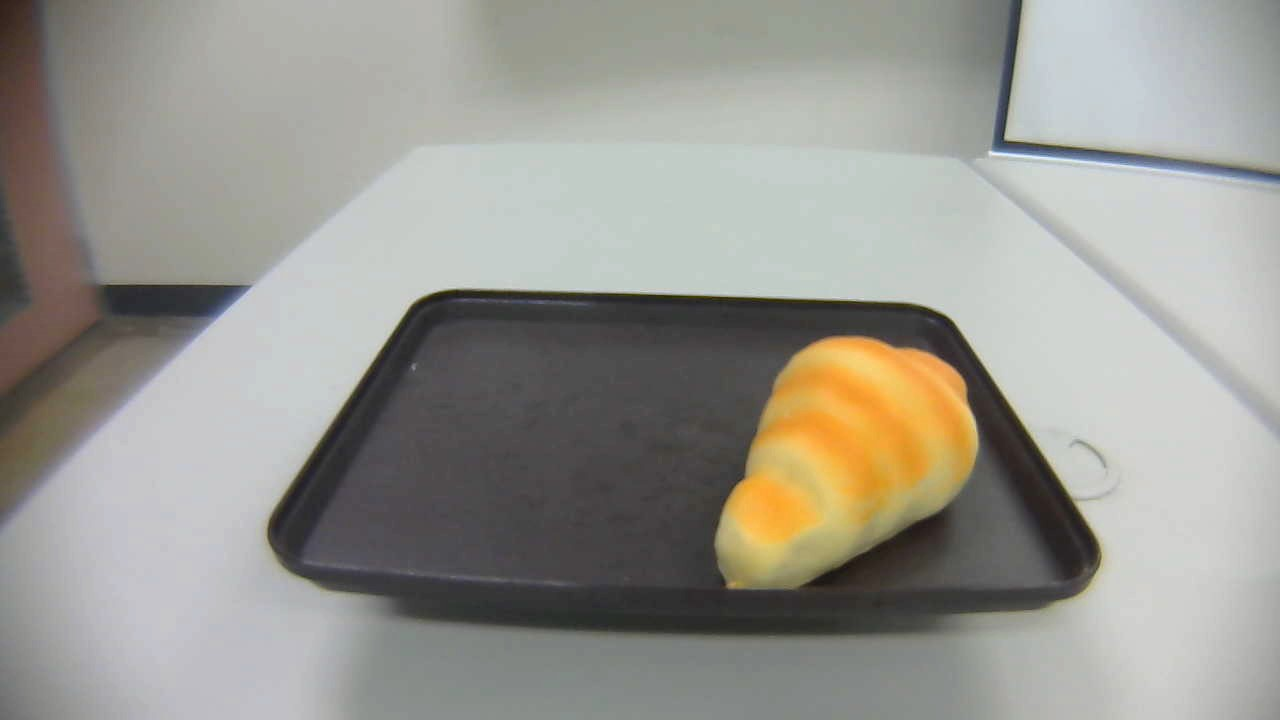croissant: (714, 337, 980, 591)
